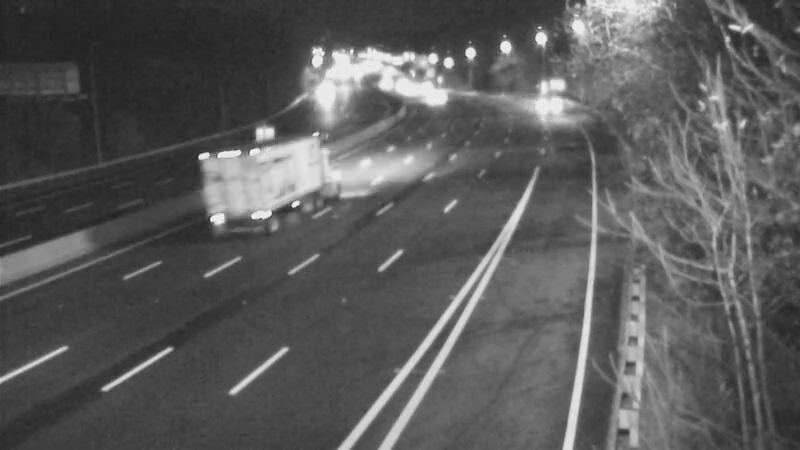vehicle: (190, 153, 270, 233), (522, 75, 572, 125)
